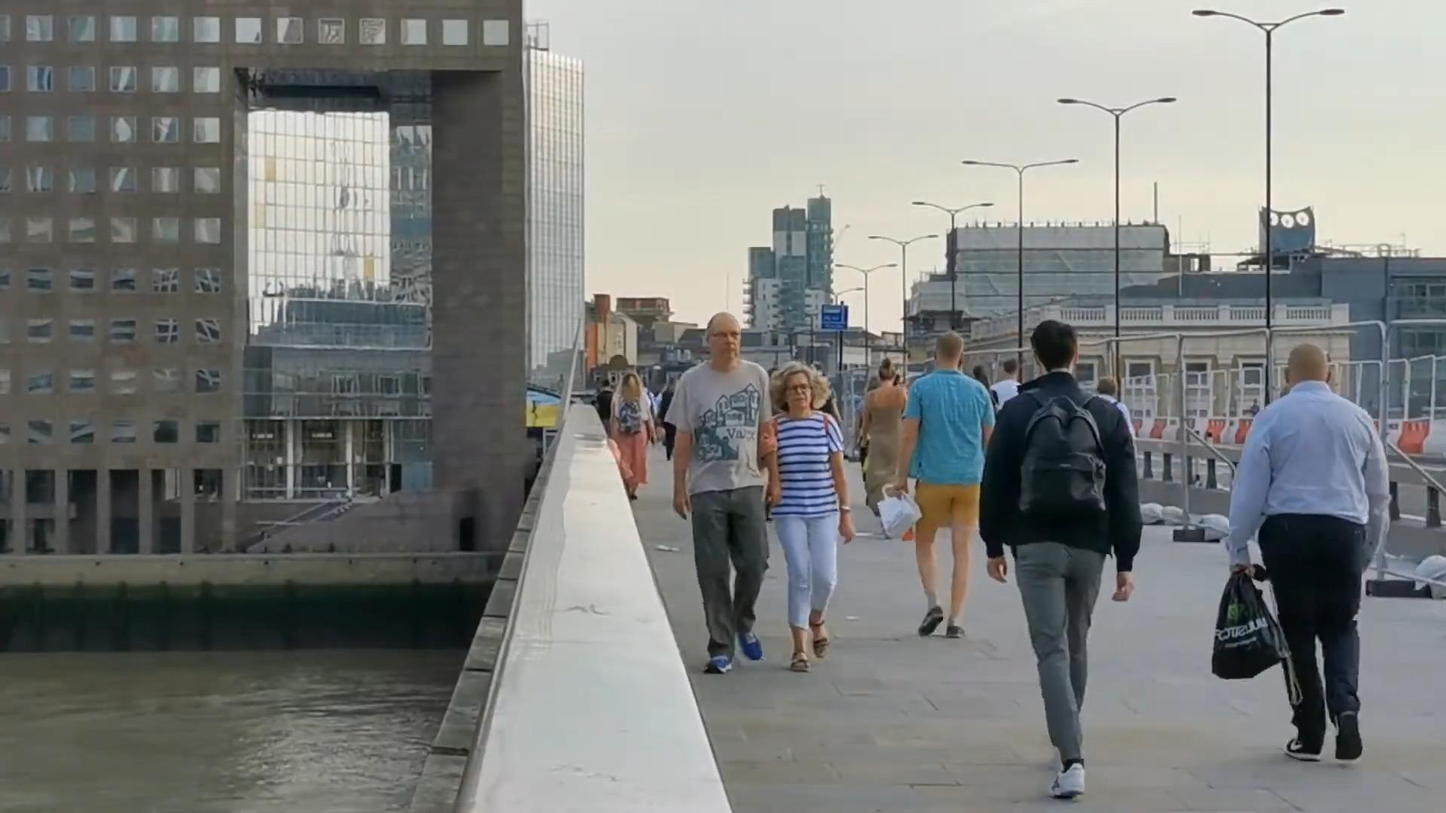no-helmet: (770, 361, 832, 412), (1030, 319, 1079, 376), (1285, 343, 1331, 389), (705, 312, 741, 365), (933, 330, 964, 370), (619, 371, 643, 402), (878, 357, 897, 386)
